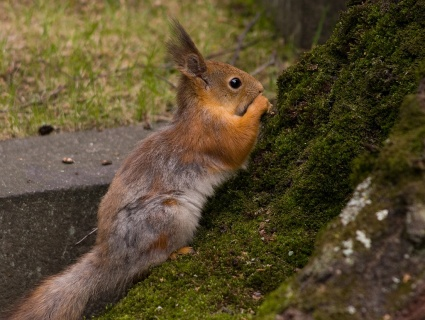Squirrel: (4, 7, 275, 319)
